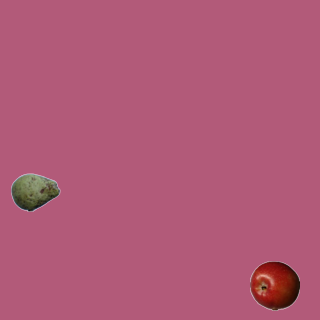Apple Braeburn: (249, 260, 299, 310)
Pear Stone: (10, 167, 60, 217)
